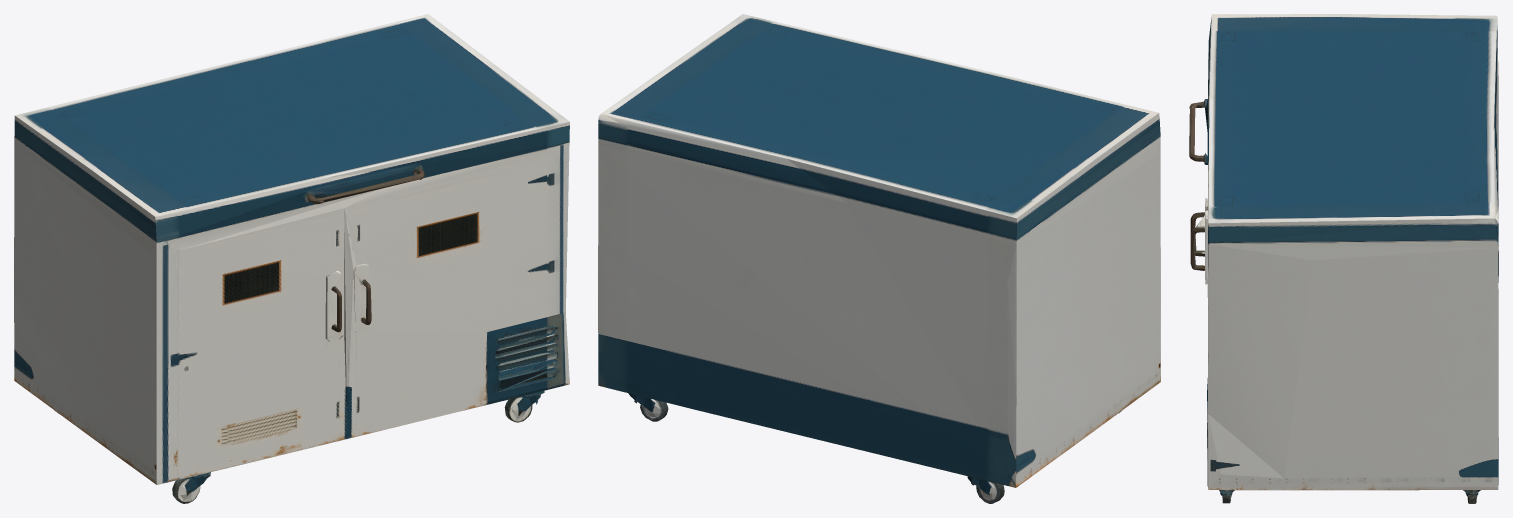
File: mart-ice-locker.glb
3 views of the same model, side by side, from view 1: azimuth 30°, elevation 25°; view 2: azimuth 150°, elevation 25°; view 3: azimuth 270°, elevation 25° (orthographic).
Size of the model in its own units: 1.9 by 1.32 by 1.21.
Materials: 1 (1 with a texture image).
